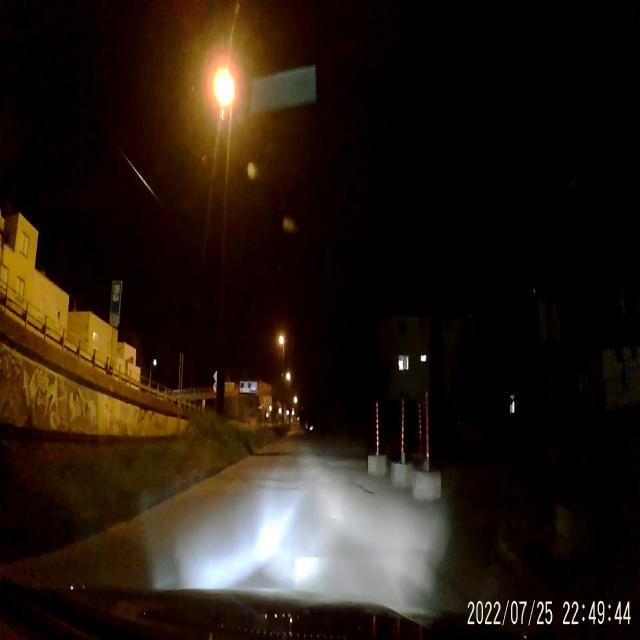Pothole: (348, 476, 382, 500)
